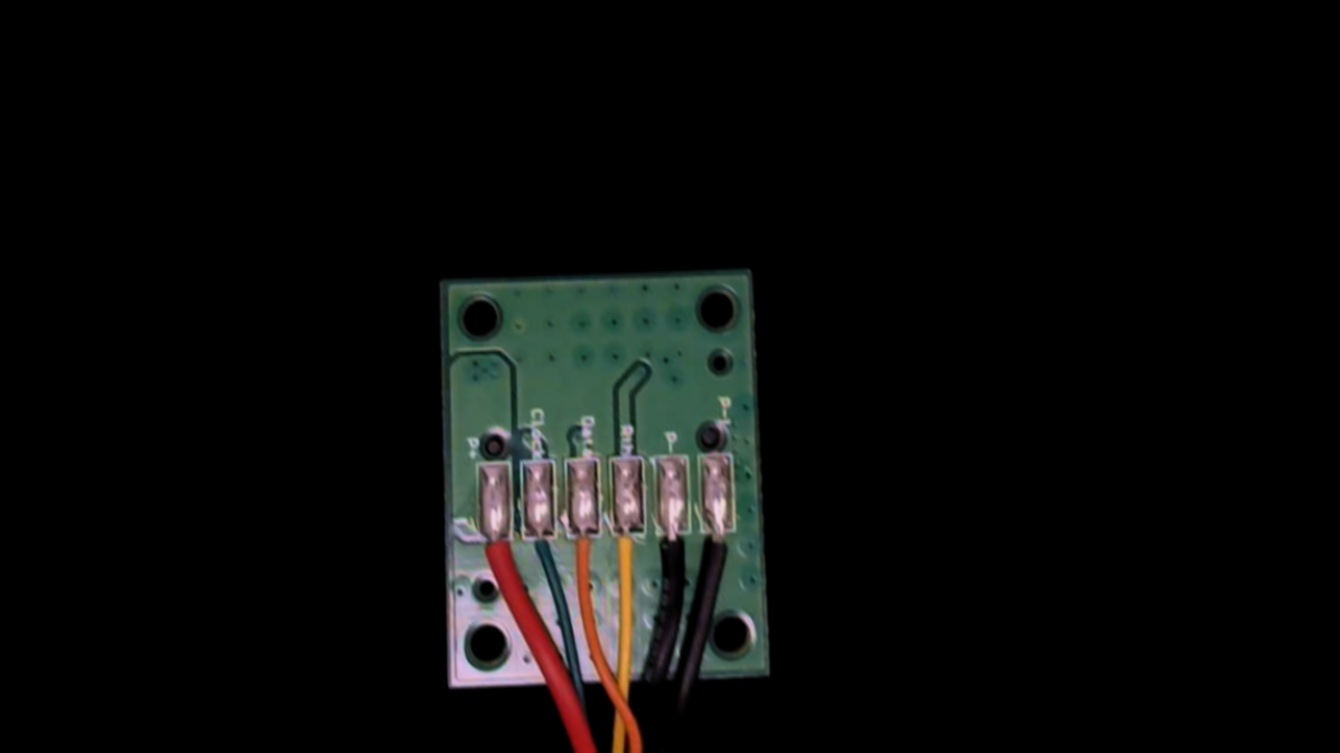Black: (652, 513, 694, 606)
Black1: (701, 510, 742, 595)
Green: (521, 513, 557, 587)
Orange: (565, 511, 604, 596)
Red: (477, 517, 517, 605)
Yellow: (607, 515, 649, 609)
